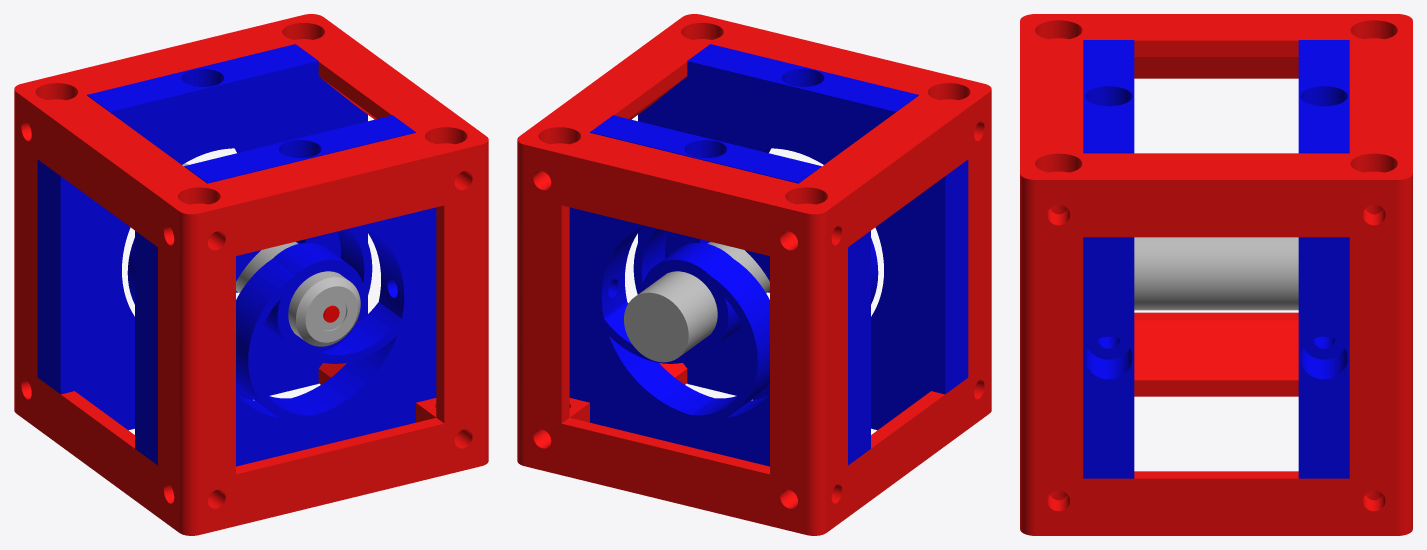
File: Base Cube 1x1 (Laser).fbx
3 views of the same model, side by side, from view 1: azimuth 30°, elevation 25°; view 2: azimuth 150°, elevation 25°; view 3: azimuth 270°, elevation 25° (orthographic). The views are drawn at different scales.
Parts seen in each view (by area): view 1: Base Cube 1x1 (Laser); view 2: Base Cube 1x1 (Laser); view 3: Base Cube 1x1 (Laser).
Boxes of the visible parts, bbox=[...] form: Base Cube 1x1 (Laser): bbox=[14, 14, 488, 535]; Base Cube 1x1 (Laser): bbox=[517, 14, 991, 535]; Base Cube 1x1 (Laser): bbox=[1020, 14, 1412, 535].
Size of the model in its own units: 4.98 by 5 by 4.98.
